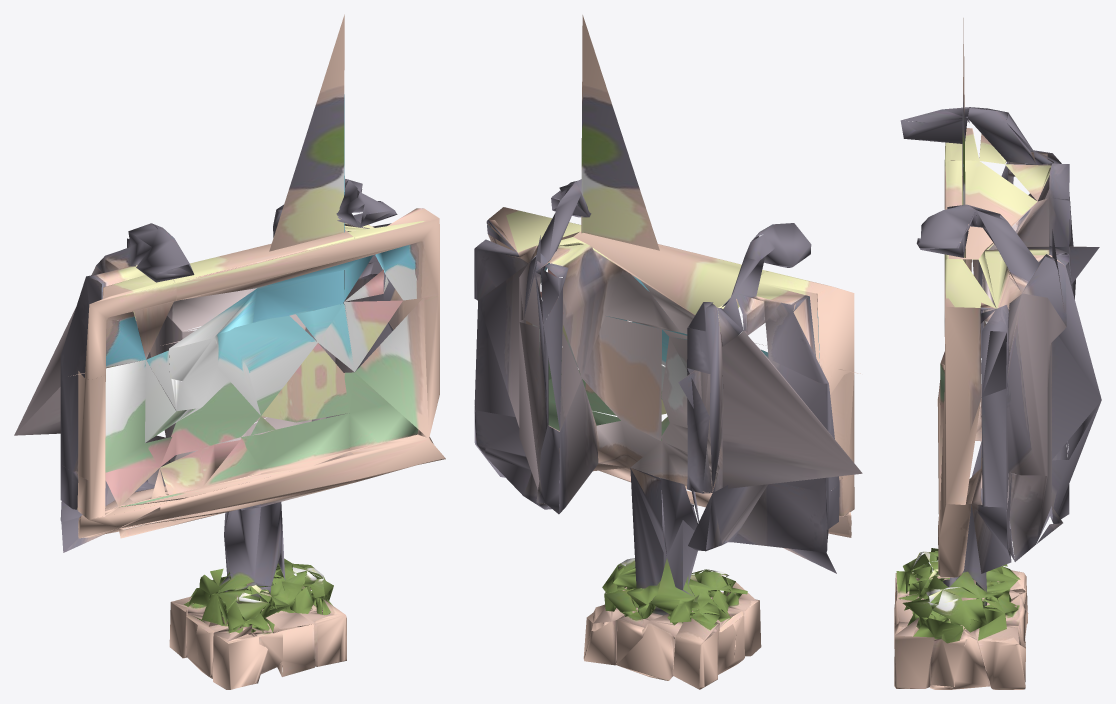
File: M-10_07_billboard.glb
3 renders of one model, left to right at view 1: azimuth 30°, elevation 25°; view 2: azimuth 150°, elevation 25°; view 3: azimuth 270°, elevation 25°, orthographic. The views are drawn at different scales.
Visible parts, largest first — view 1: billboard; view 2: billboard; view 3: billboard.
Part boxes in pixels (bbox=[...]): billboard: bbox=[14, 14, 445, 689]; billboard: bbox=[474, 15, 862, 689]; billboard: bbox=[894, 18, 1101, 689].
Bounding box in the file's own units: 5.54 × 8.33 × 2.25.
Materials: 2 (2 with a texture image).
